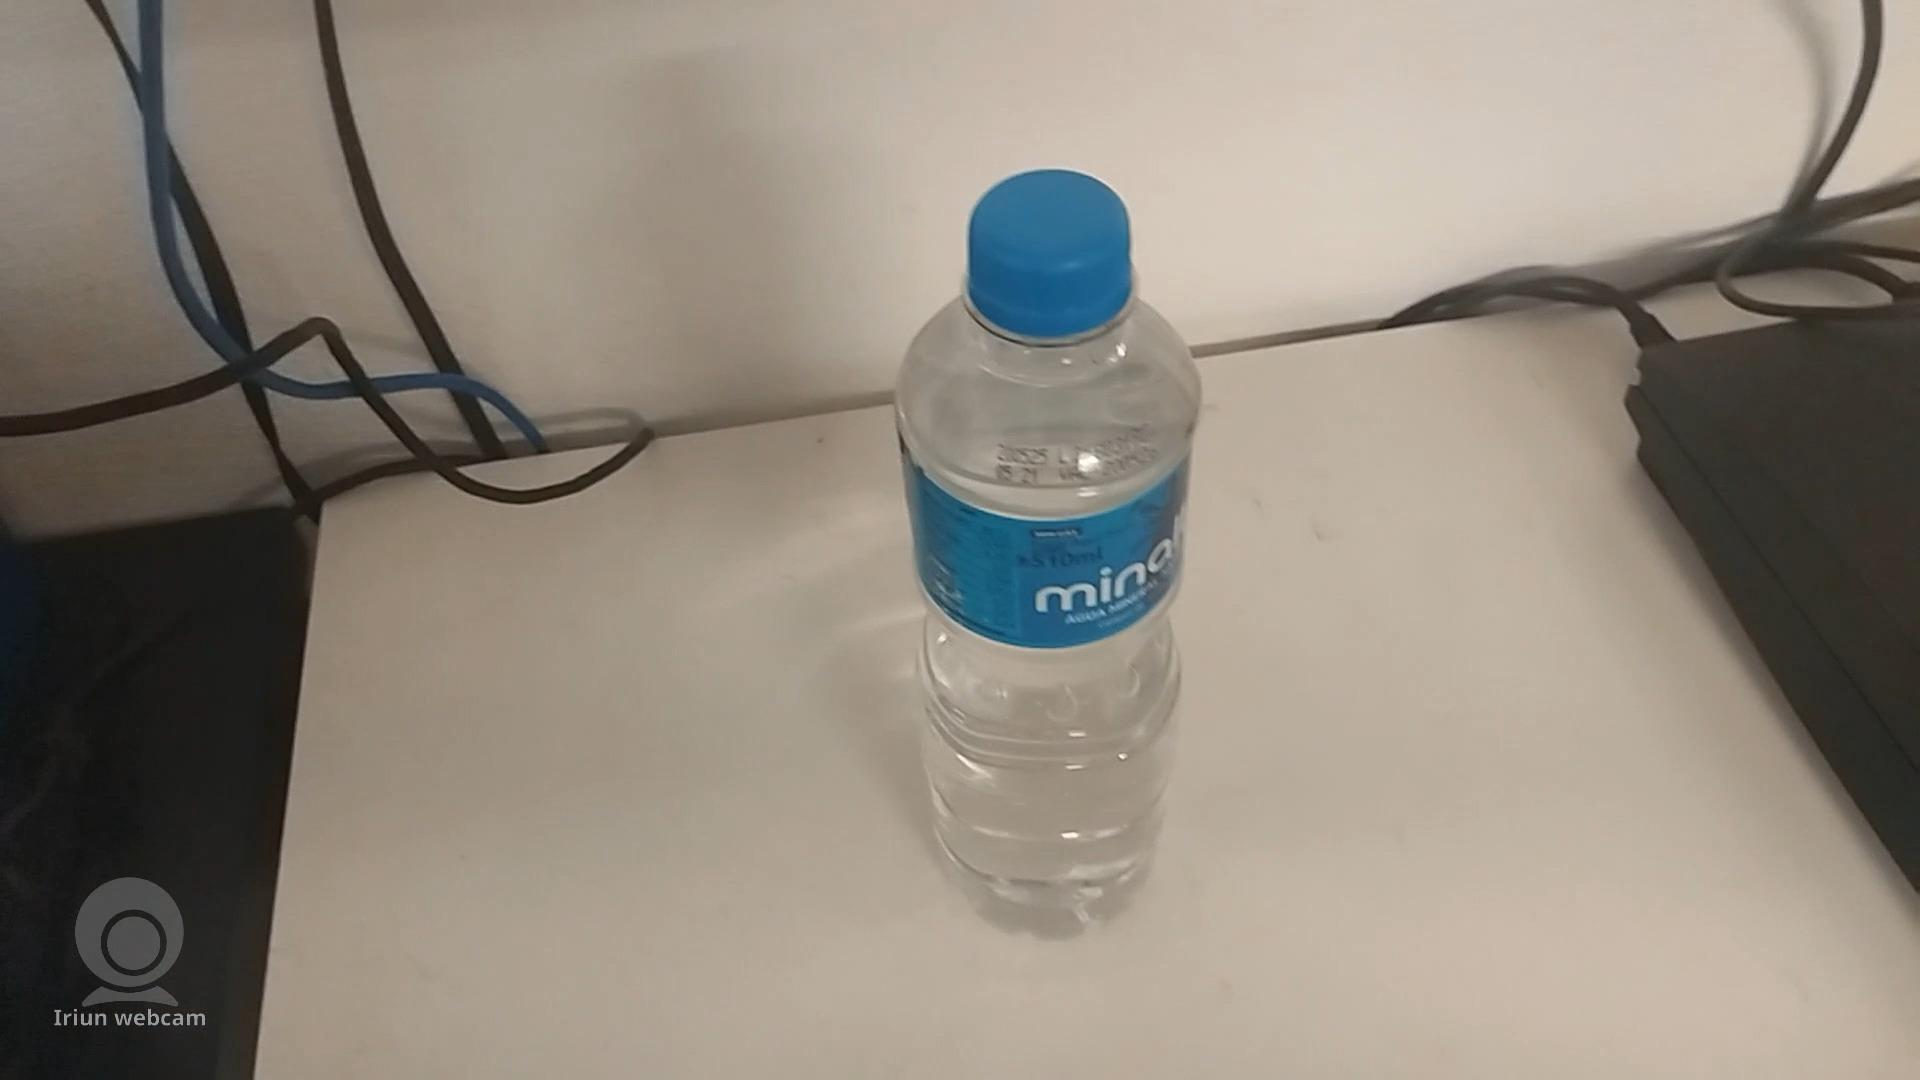agua: (889, 169, 1204, 942)
